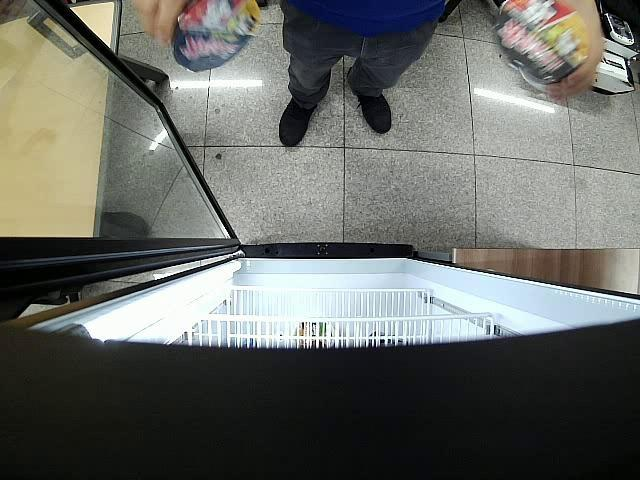08_buldak_S: (495, 0, 591, 83), (174, 0, 258, 73)
